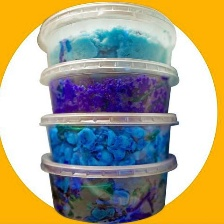plastic_box: (34, 145, 182, 224), (31, 0, 181, 71), (34, 105, 182, 173), (34, 52, 184, 118)
